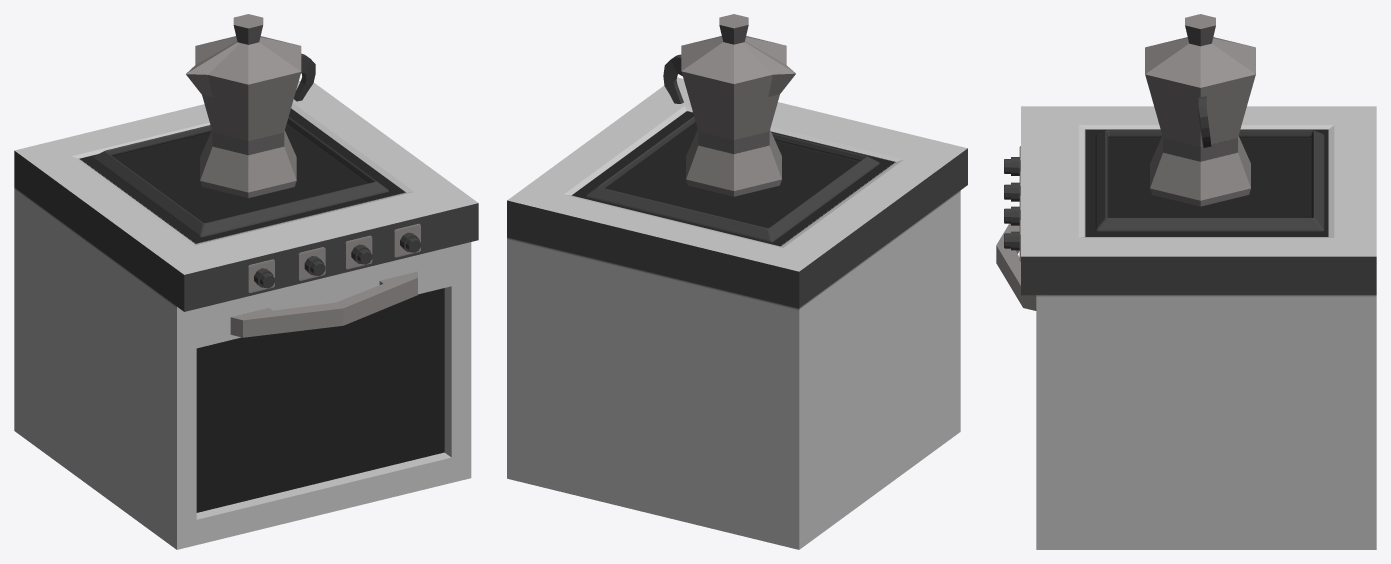
Rendered from coffeeMachine_I_asset.fbx.
3 renders of one model, left to right at view 1: azimuth 30°, elevation 25°; view 2: azimuth 150°, elevation 25°; view 3: azimuth 270°, elevation 25°, orthographic. The views are drawn at different scales.
Visible parts, largest first — view 1: Unit Reference.001, Cylinder.105, Circle.003, Plane.073, Plane.074; view 2: Unit Reference.001, Cylinder.105, Circle.003, Plane.074; view 3: Unit Reference.001, Cylinder.105, Circle.003, Plane.073, Plane.074.
Part boxes in pixels (left/top/right/bottom): Unit Reference.001: left=14, top=80, right=478, bottom=549; Cylinder.105: left=186, top=14, right=301, bottom=198; Circle.003: left=92, top=117, right=388, bottom=237; Plane.073: left=230, top=271, right=417, bottom=337; Plane.074: left=294, top=53, right=315, bottom=101; Unit Reference.001: left=507, top=77, right=967, bottom=549; Cylinder.105: left=681, top=14, right=795, bottom=196; Circle.003: left=585, top=116, right=879, bottom=242; Plane.074: left=663, top=54, right=683, bottom=103; Unit Reference.001: left=1021, top=106, right=1376, bottom=549; Cylinder.105: left=1145, top=14, right=1255, bottom=206; Circle.003: left=1095, top=130, right=1324, bottom=231; Plane.073: left=996, top=223, right=1036, bottom=310; Plane.074: left=1198, top=96, right=1211, bottom=147.
Bounding box in the file's own units: 97.97 × 138 × 105.
4 materials, 4 textured.
